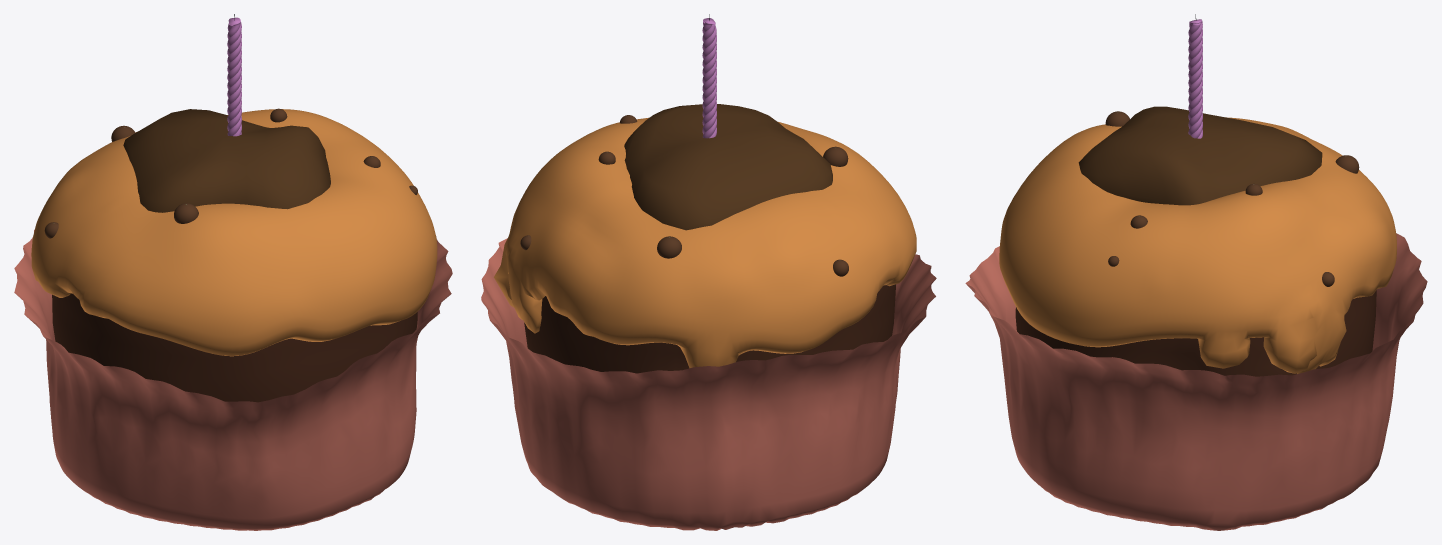
Rendered from cupcake.glb.
3 views of the same model, side by side, from view 1: azimuth 30°, elevation 25°; view 2: azimuth 150°, elevation 25°; view 3: azimuth 270°, elevation 25° (orthographic).
Visible parts, largest first — view 1: Icing, Cup, Chocolate Sauce, Cake, Candle; view 2: Cup, Icing, Chocolate Sauce, Cake, Candle; view 3: Cup, Icing, Chocolate Sauce, Cake, Candle.
Part boxes in pixels (x1=…): Icing: x1=31, y1=109, x2=437, y2=356; Cup: x1=14, y1=229, x2=452, y2=530; Chocolate Sauce: x1=123, y1=109, x2=330, y2=212; Cake: x1=52, y1=293, x2=417, y2=402; Candle: x1=227, y1=17, x2=241, y2=136; Cup: x1=481, y1=238, x2=936, y2=530; Icing: x1=494, y1=117, x2=916, y2=368; Chocolate Sauce: x1=624, y1=104, x2=832, y2=230; Cake: x1=524, y1=284, x2=895, y2=373; Candle: x1=702, y1=18, x2=716, y2=138; Cup: x1=965, y1=233, x2=1427, y2=530; Icing: x1=999, y1=117, x2=1396, y2=373; Chocolate Sauce: x1=1078, y1=106, x2=1322, y2=205; Cake: x1=1015, y1=290, x2=1376, y2=376; Candle: x1=1188, y1=19, x2=1202, y2=138.
Bounding box in the file's own units: 0.1228 × 0.1338 × 0.1253.
Materials: 7 (5 with a texture image).
